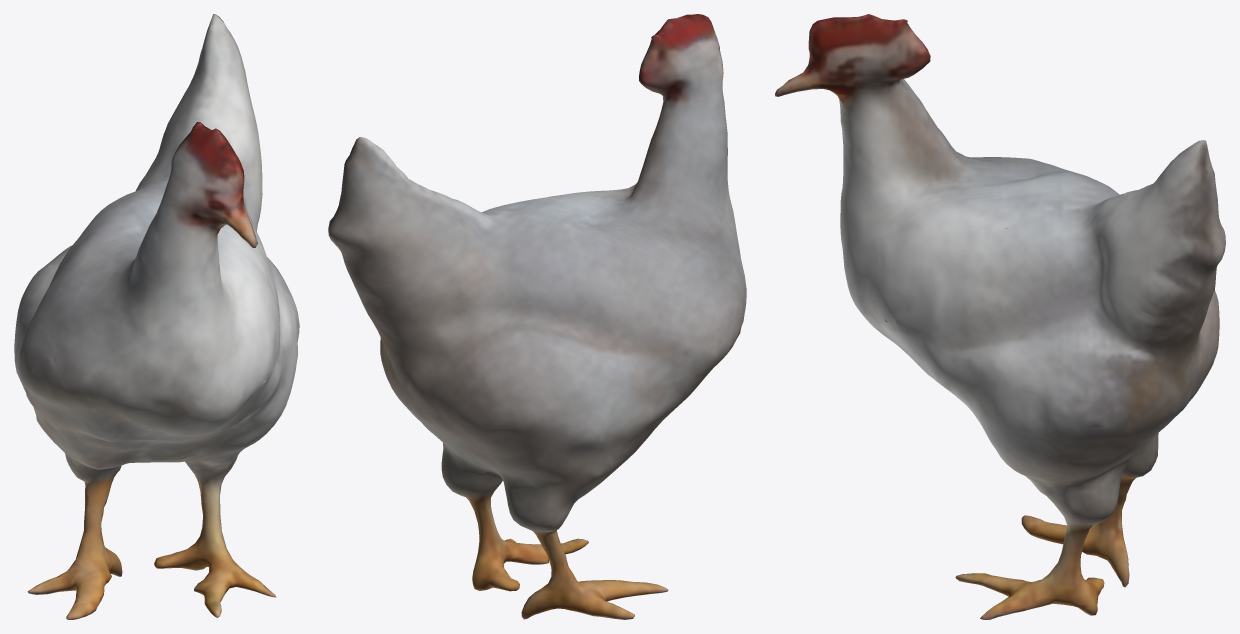
The model's file is adulto.glb.
The picture shows the model from 3 angles, left to right: view 1: azimuth 30°, elevation 25°; view 2: azimuth 150°, elevation 25°; view 3: azimuth 270°, elevation 25°; orthographic projection. The views are drawn at different scales.
Visible parts, largest first — view 1: mesh; view 2: mesh; view 3: mesh.
Part boxes in pixels (<box>): mesh: <box>14,14,299,619</box>; mesh: <box>328,14,746,619</box>; mesh: <box>775,14,1225,619</box>.
Size of the model in its own units: 1.04 by 1.7 by 1.24.
1 material, 1 textured.
